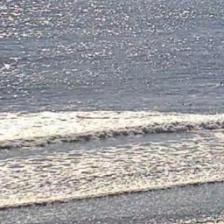surfer: (221, 81, 223, 84)
